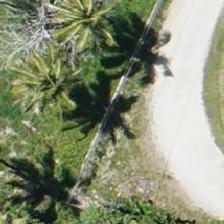coconut_tree: (2, 46, 92, 136), (37, 0, 127, 65)
